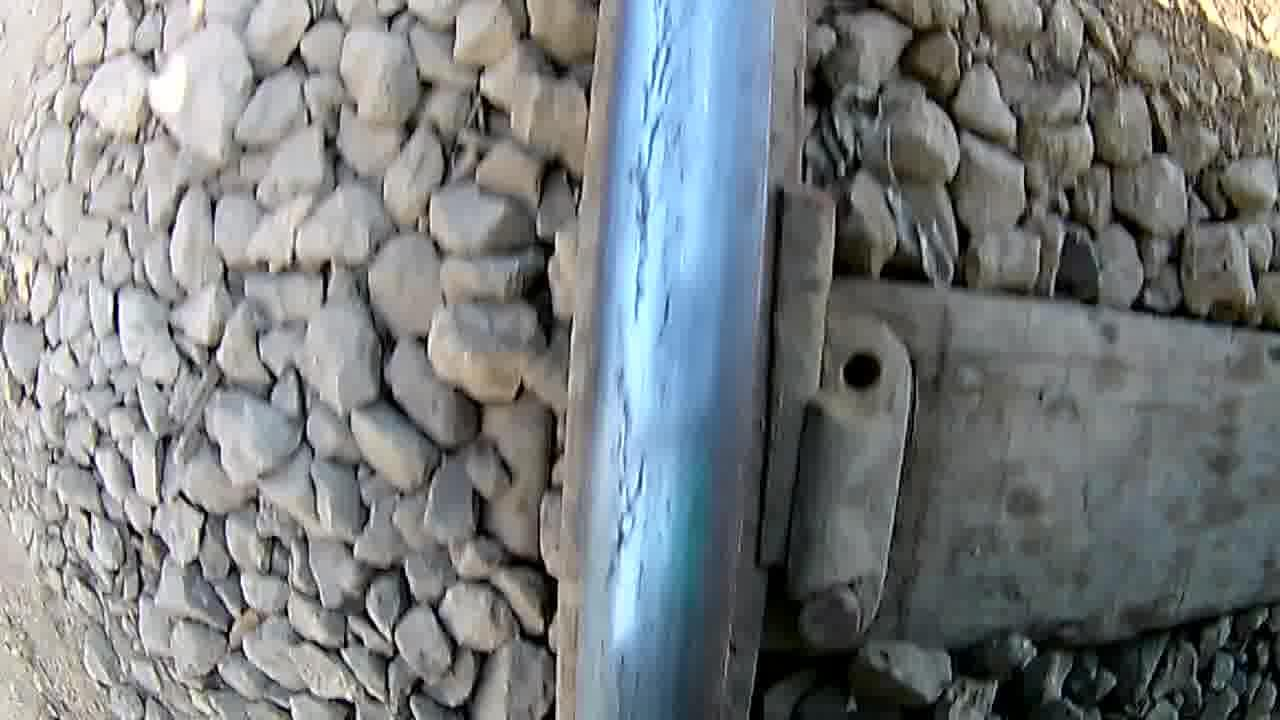normal_track: (600, 4, 698, 708)
